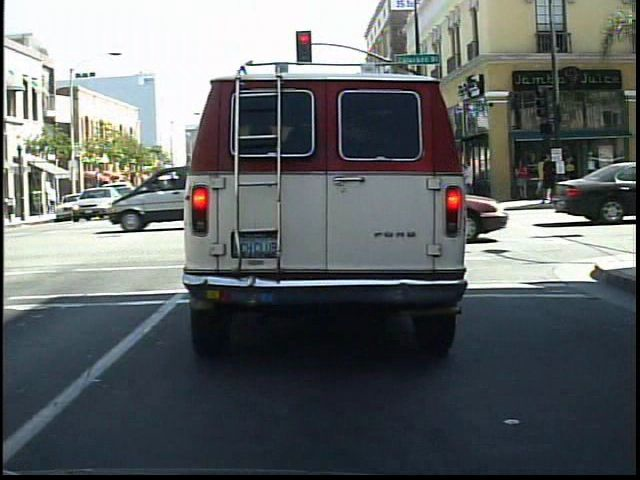person: (538, 153, 562, 207), (511, 157, 531, 203)
